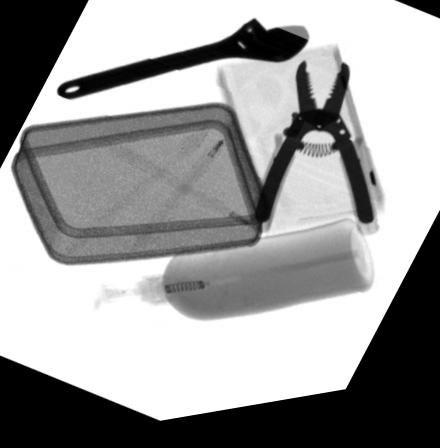Pliers: (249, 66, 380, 247)
Wrench: (57, 24, 308, 102)
